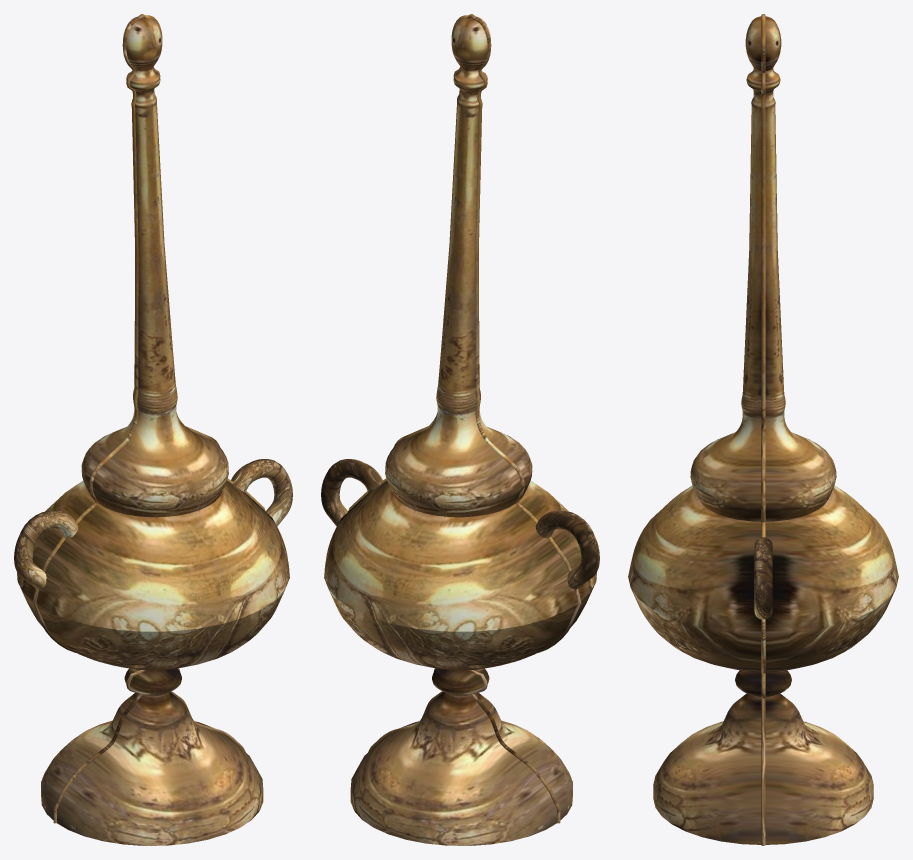
File: El_Mrach_ethnographique.glb
3 renders of one model, left to right at view 1: azimuth 30°, elevation 25°; view 2: azimuth 150°, elevation 25°; view 3: azimuth 270°, elevation 25°, orthographic.
Visible parts, largest first — view 1: Circle; view 2: Circle; view 3: Circle.
Boxes of the visible parts, x1=… form: Circle: x1=14, y1=14, x2=292, y2=845; Circle: x1=321, y1=14, x2=599, y2=845; Circle: x1=628, y1=14, x2=898, y2=845.
Bounding box in the file's own units: 0.3546 × 0.9658 × 0.3044.
Materials: 1 (1 with a texture image).
